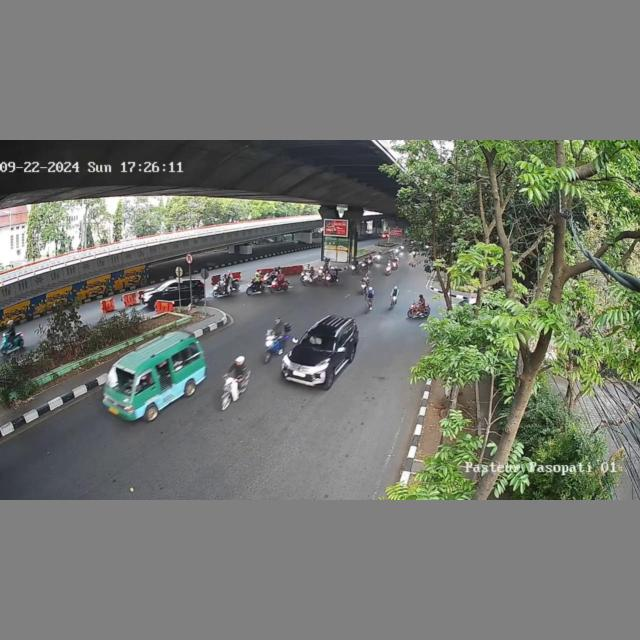windshield: (107, 368, 136, 395), (301, 331, 338, 351)
